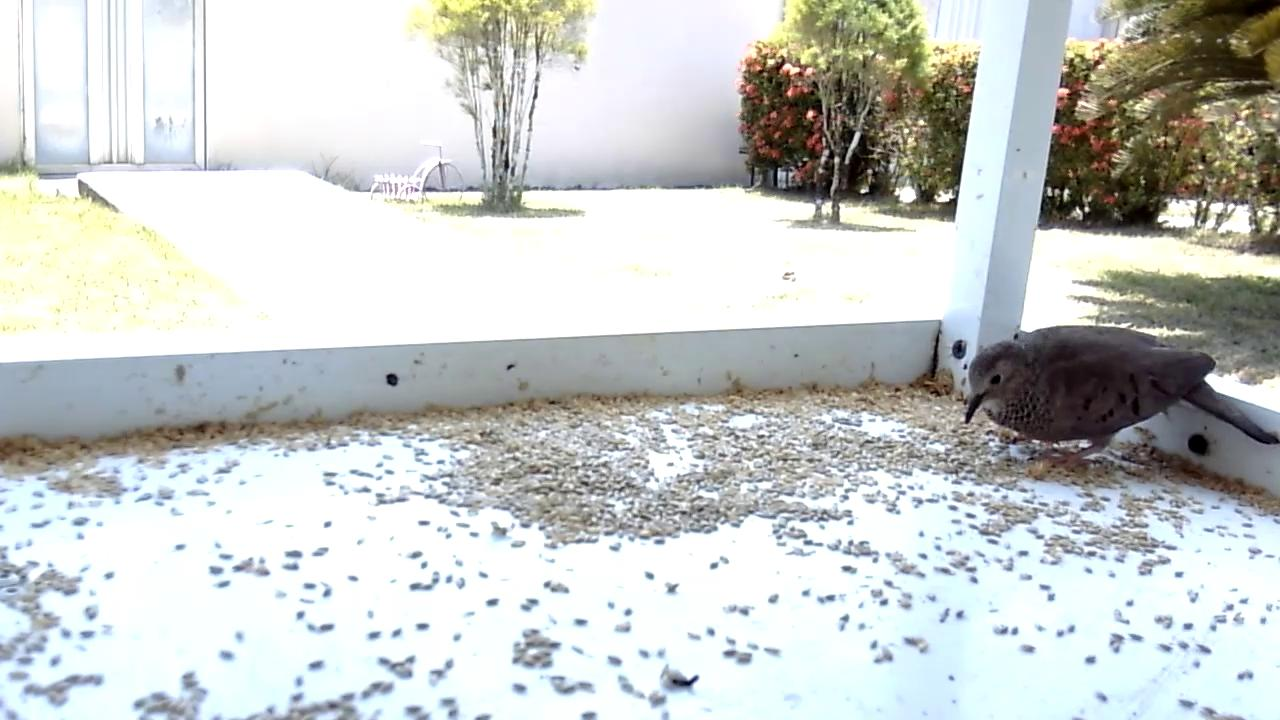rolinha: (957, 324, 1280, 474)
